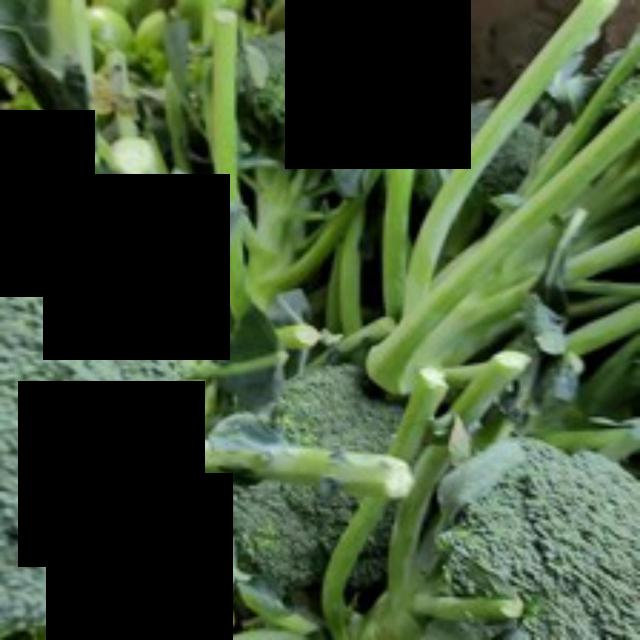broccoli: (0, 154, 201, 640)
